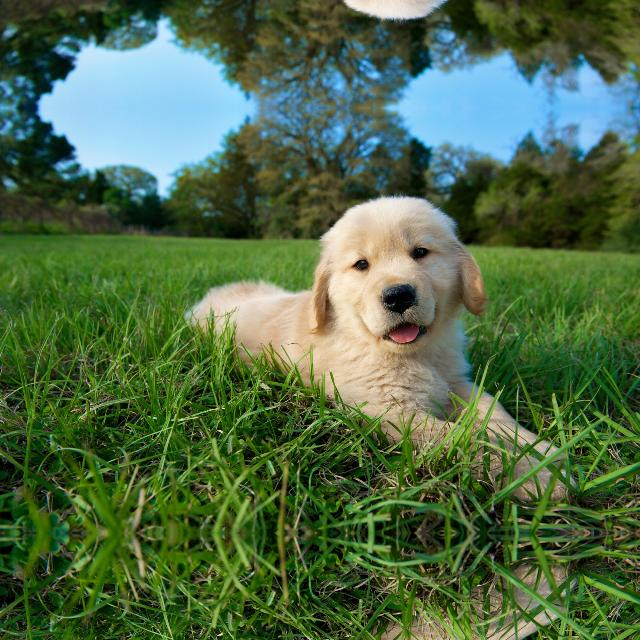dog: (174, 175, 580, 488), (173, 578, 580, 640), (173, 0, 580, 39)
